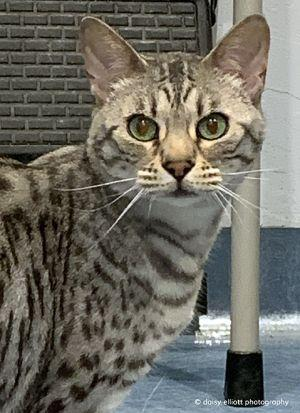bengal: (71, 5, 285, 216)
